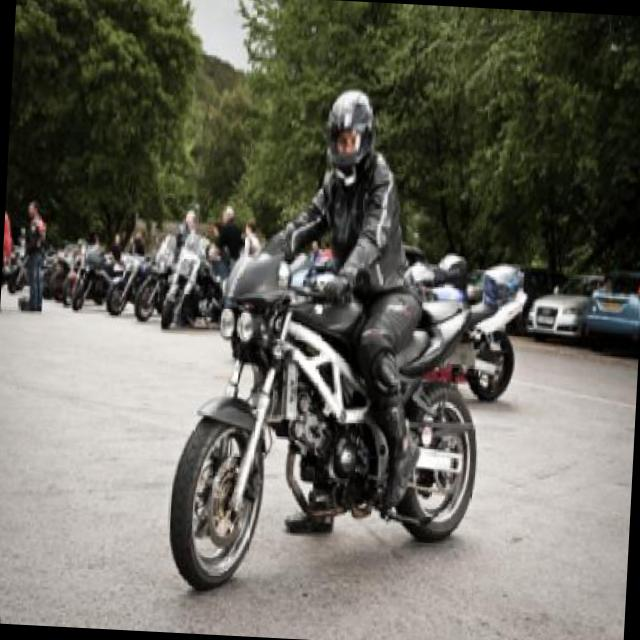With Helmet: (320, 85, 378, 188)
